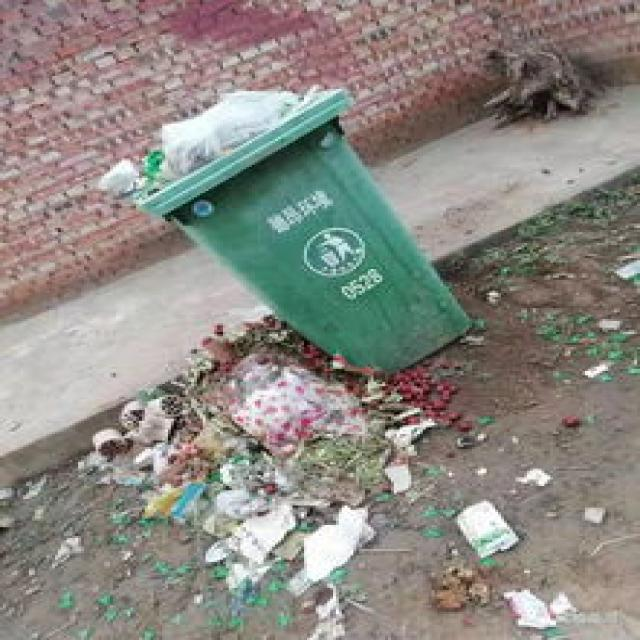garbage: (50, 312, 602, 638)
overflow: (93, 83, 469, 373)
